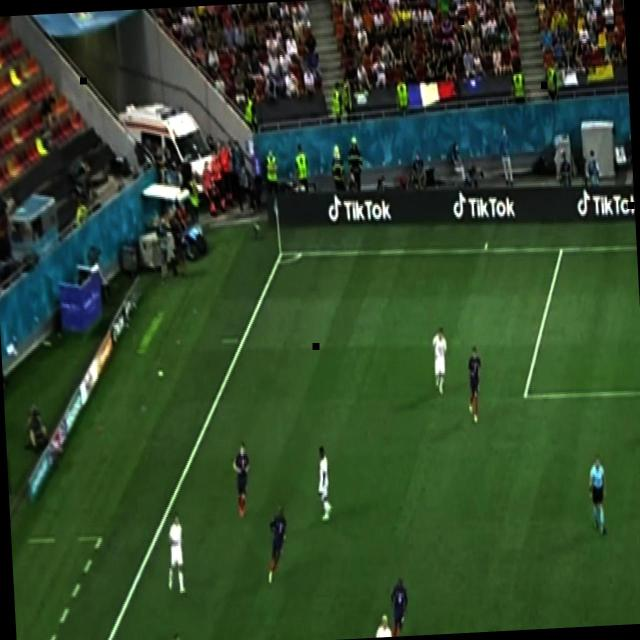player-white: (262, 498, 292, 589), (162, 508, 188, 600), (228, 438, 254, 522), (586, 454, 610, 540), (312, 444, 336, 528), (429, 324, 452, 400), (385, 569, 410, 637), (464, 344, 484, 428), (368, 607, 393, 638), (151, 626, 183, 640)
